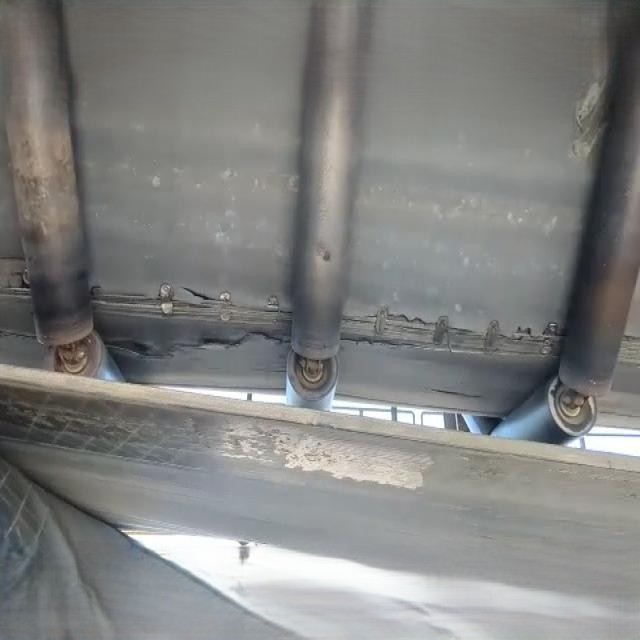Tear: (82, 279, 302, 362), (333, 302, 571, 373)
Wear: (566, 80, 620, 164)
